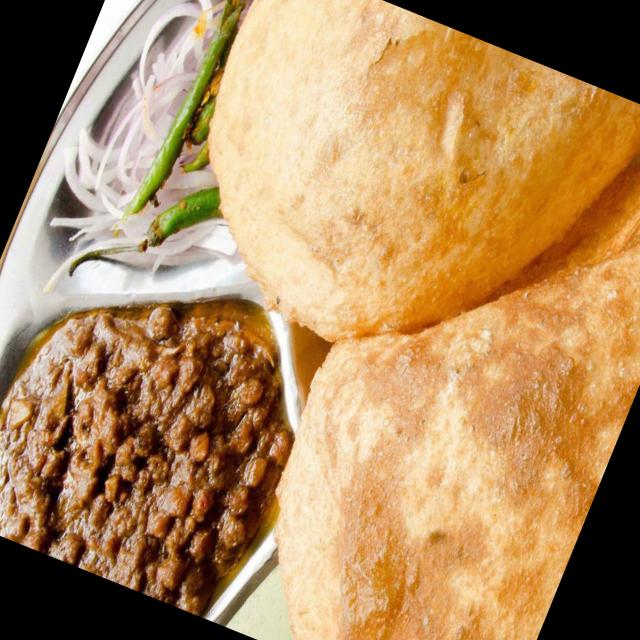Bhatura: (219, 40, 640, 640), (151, 0, 640, 434)
Chole: (0, 253, 325, 624)
